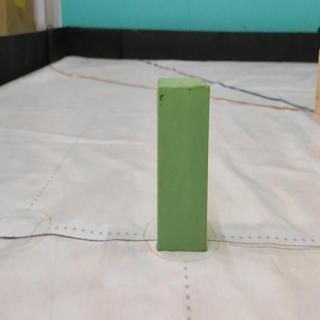greenbox: (157, 79, 209, 252)
